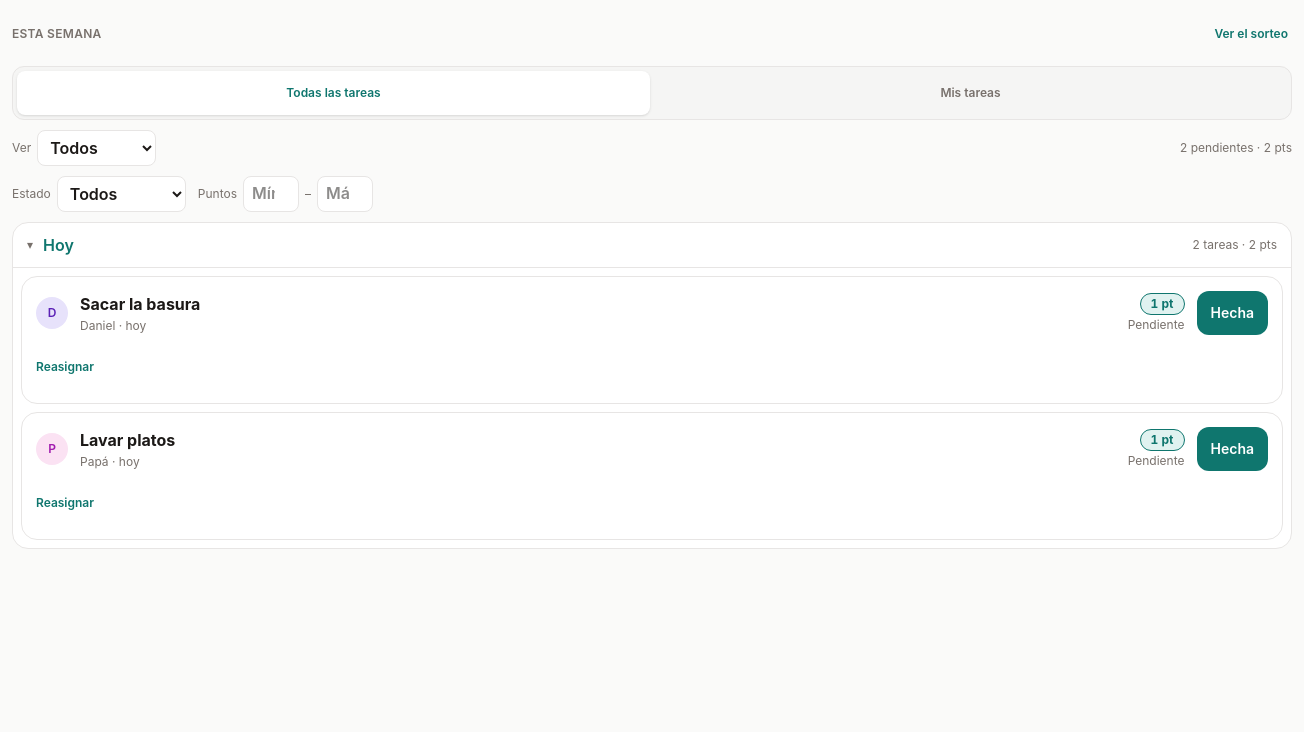
it: TareasClient — vista de administrador › an admin's Mis tareas tab filters to their own assignments only
Expected: the text "Sacar la basura" is shown, [80,294,200,314]
Expected: the text "Lavar platos" is shown, [80,430,175,450]
Click the tab "Mis tareas" at (970, 93), box [654,71,1287,115]
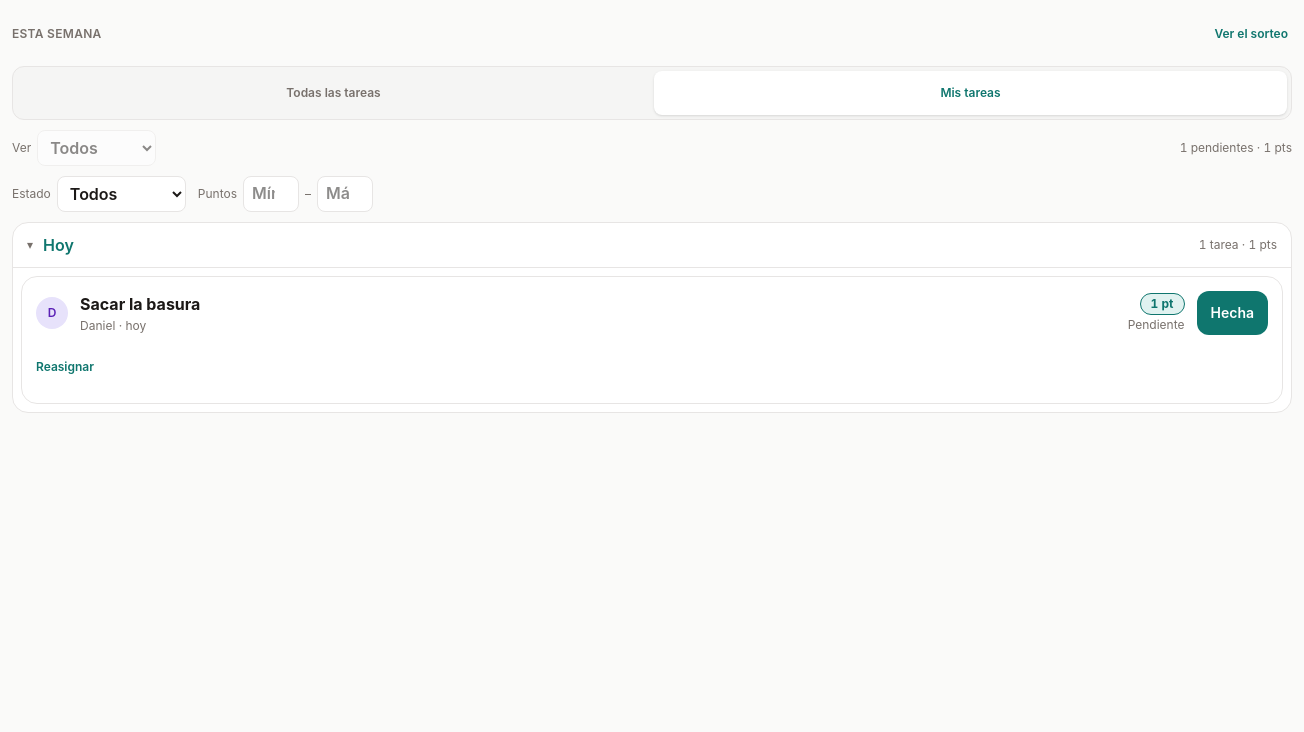
Expected: the text "Sacar la basura" is shown, [80,294,200,314]
Expected: the text "Lavar platos" is gone
